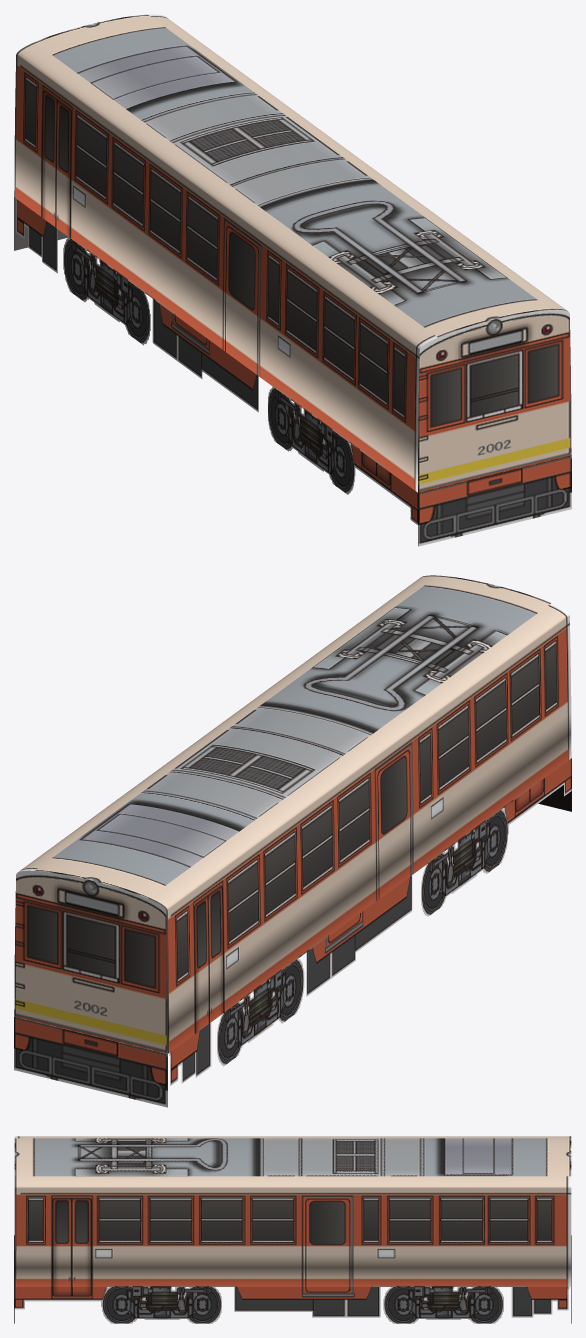
The model's file is car1.glb.
3 views of the same model, one above another, from view 1: azimuth 30°, elevation 25°; view 2: azimuth 150°, elevation 25°; view 3: azimuth 270°, elevation 25° (orthographic). The views are drawn at different scales.
Parts seen in each view (by area): view 1: iyotetu2000-car1; view 2: iyotetu2000-car1; view 3: iyotetu2000-car1.
Boxes of the visible parts, x1=… form: iyotetu2000-car1: x1=14, y1=14, x2=571, y2=546; iyotetu2000-car1: x1=14, y1=575, x2=571, y2=1107; iyotetu2000-car1: x1=14, y1=1136, x2=571, y2=1323.
Size of the model in its own units: 2.44 by 3.16 by 11.13.
6 materials, 5 textured.
